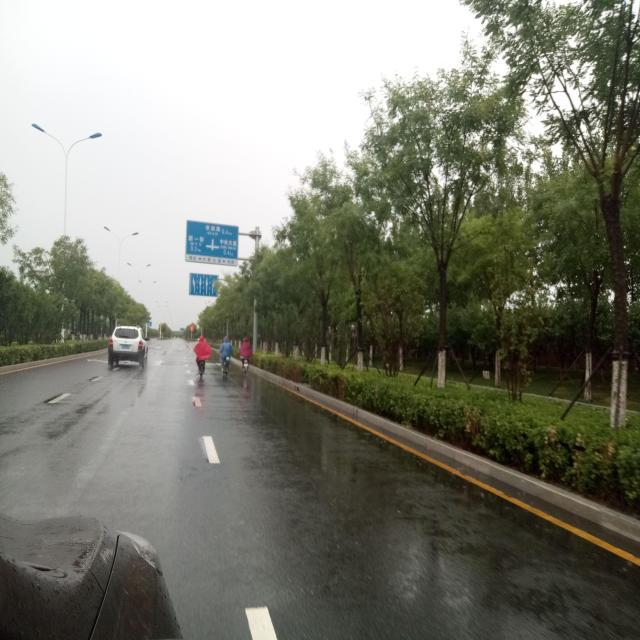car: (1, 513, 186, 640), (109, 326, 148, 368)
